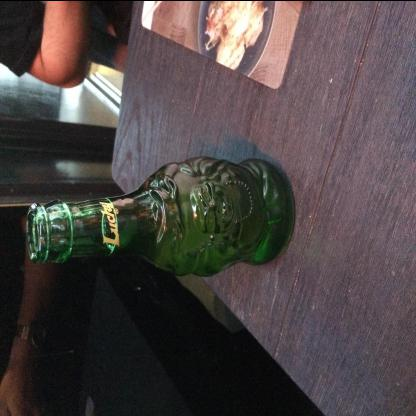cam: (23, 152, 299, 278)
